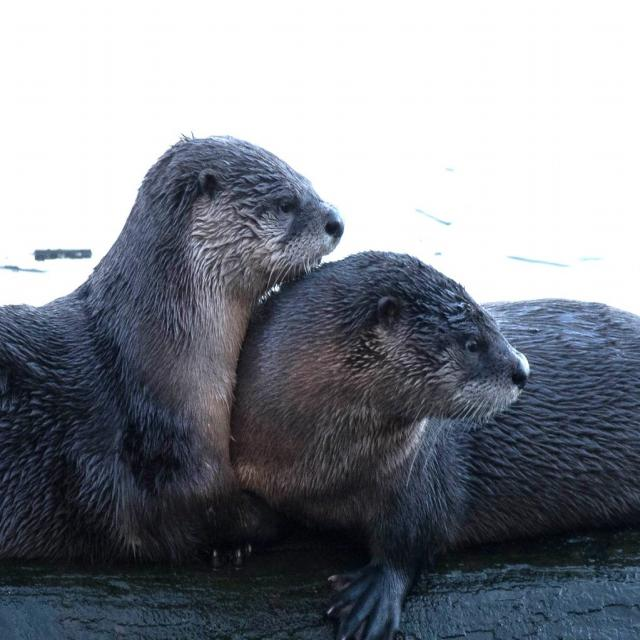otter: (1, 136, 345, 552), (234, 249, 640, 546)
